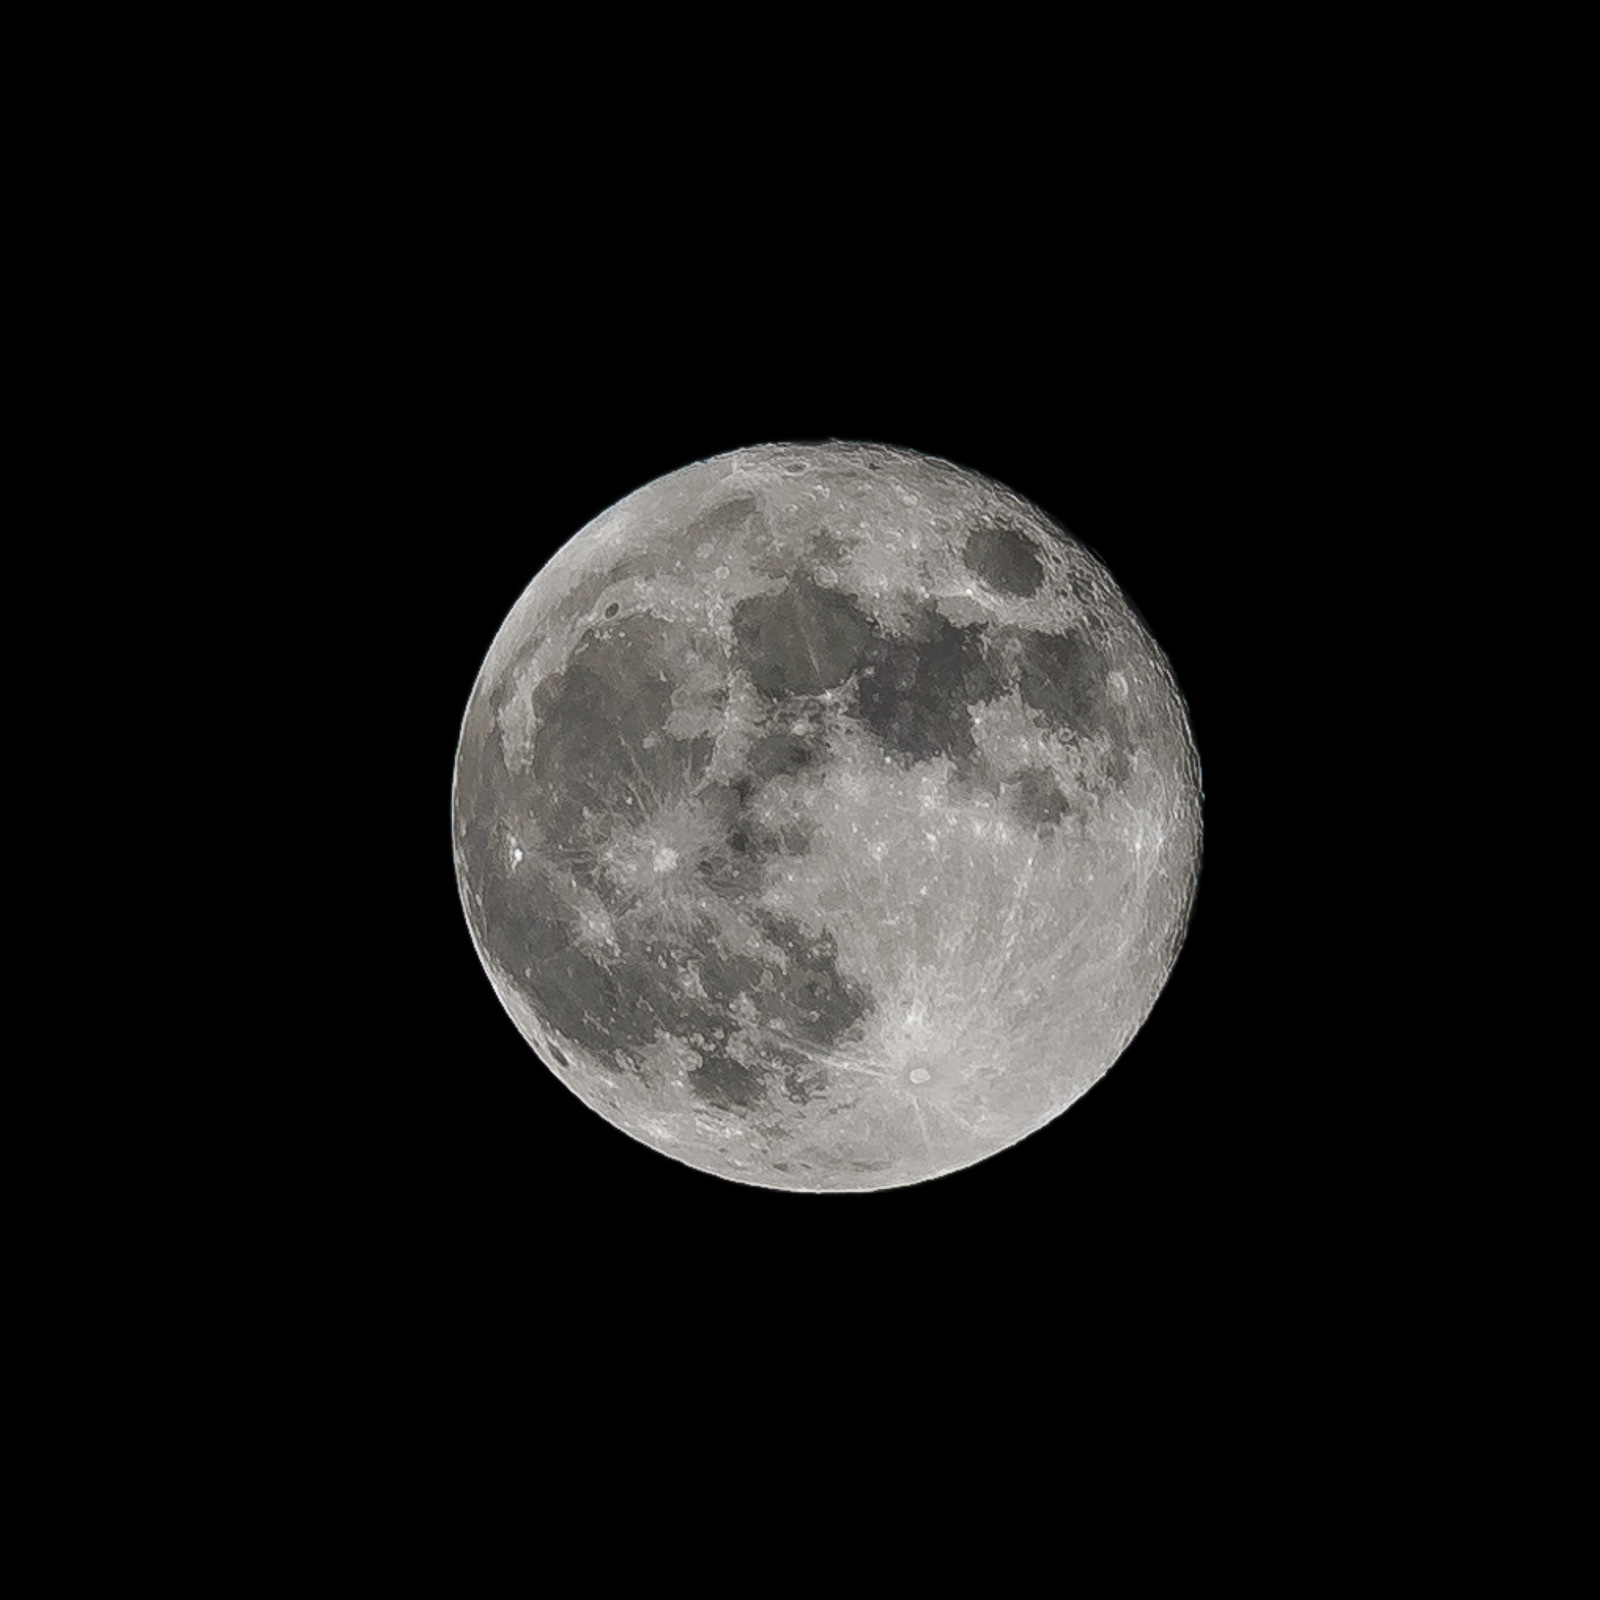crater: (589, 777, 736, 917), (844, 1005, 996, 1128), (1086, 646, 1152, 746), (586, 590, 637, 643), (762, 451, 841, 481), (497, 826, 536, 881), (957, 579, 988, 607), (904, 536, 926, 554)
